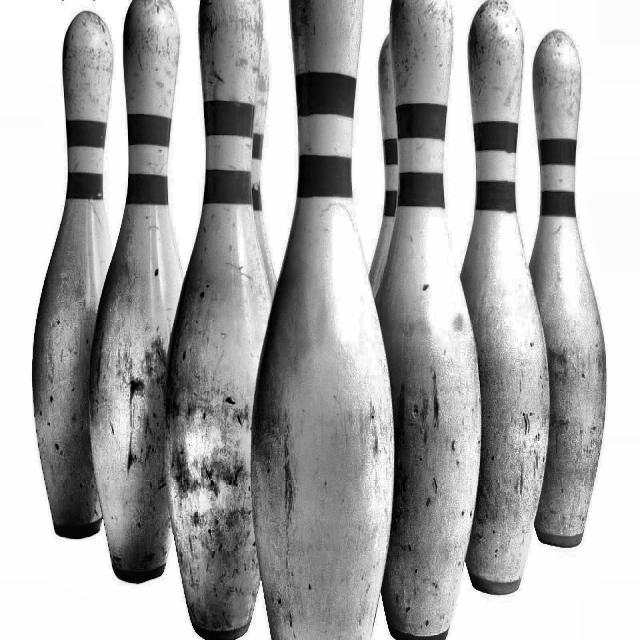bowling-pins: (252, 0, 394, 638), (377, 0, 482, 639), (168, 0, 272, 639), (90, 0, 182, 583), (462, 0, 550, 594), (31, 9, 112, 539), (531, 29, 607, 547), (370, 33, 399, 295), (252, 37, 277, 295)
